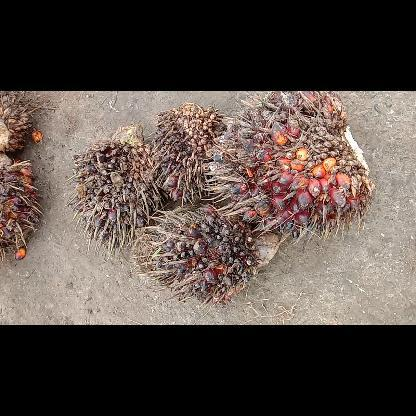TBS abnormal: (134, 207, 280, 307), (70, 125, 158, 247), (152, 103, 226, 205)
TBS masak: (208, 91, 372, 229)
